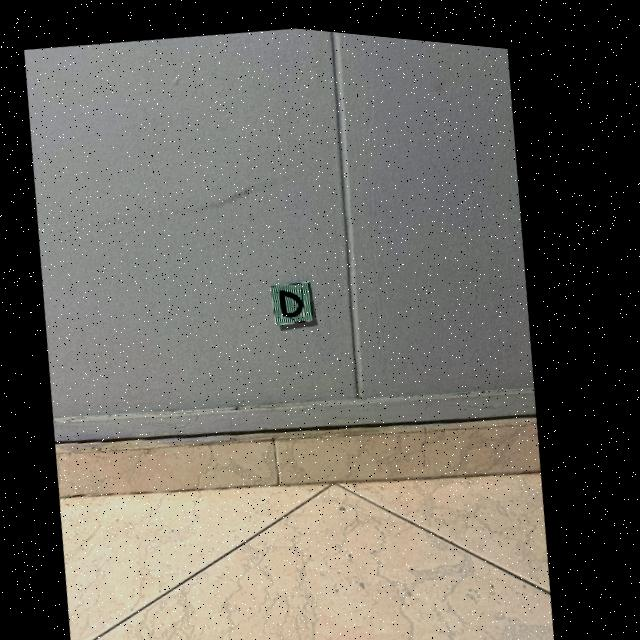D: (286, 284, 309, 311)
